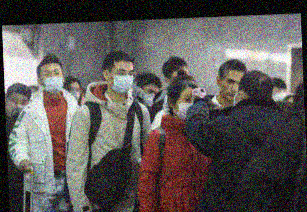with_mask: (174, 93, 199, 124), (109, 67, 135, 96), (39, 68, 64, 95), (8, 94, 28, 116), (141, 87, 162, 107), (272, 87, 289, 104), (69, 85, 81, 101)
without_mask: (220, 76, 242, 102)
